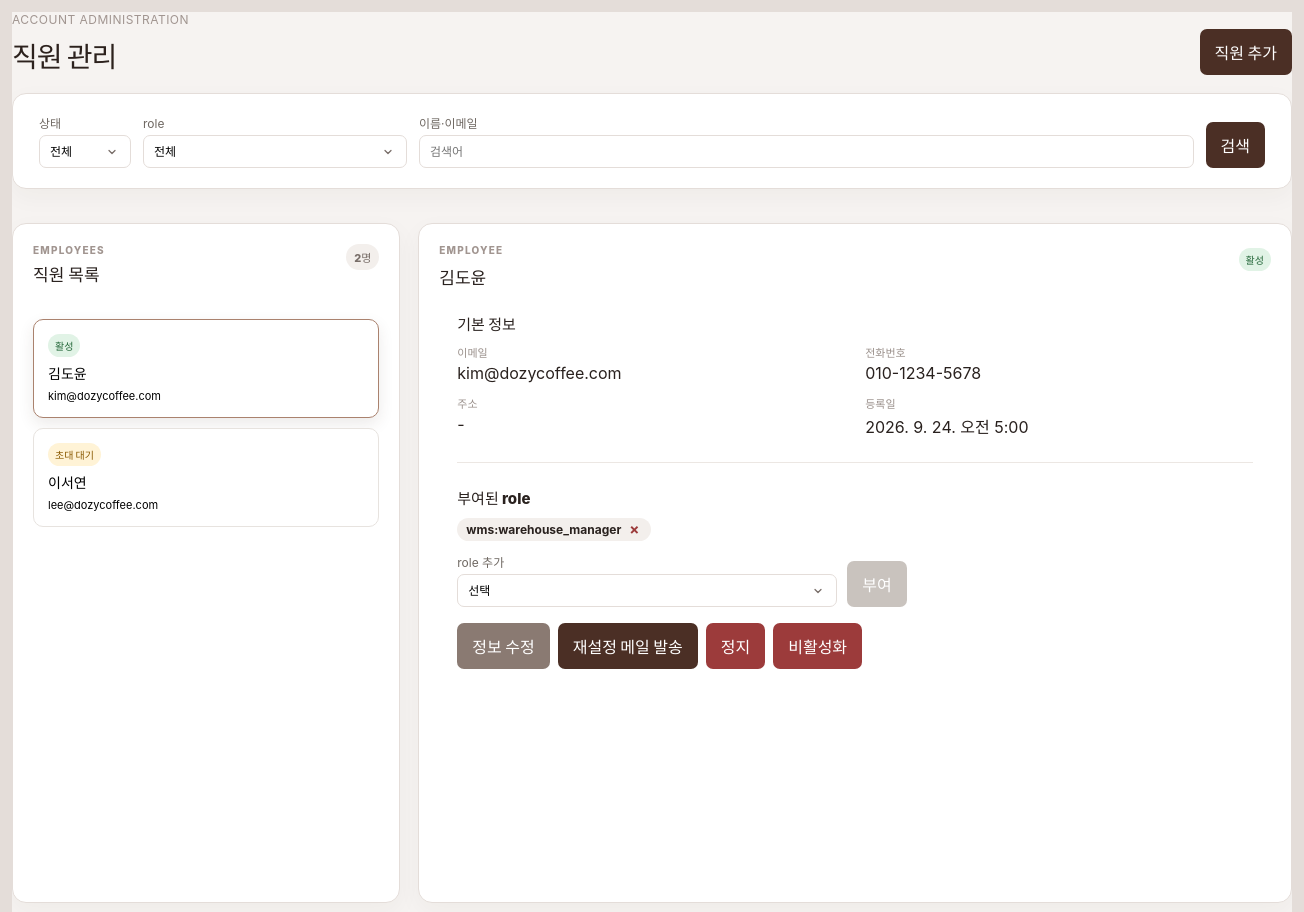
Test: EmployeesPage › 직원을 선택하면 그 직원의 상세를 보여준다
Click the button "초대 대기 이서연 lee@dozycoffee.com": (74, 454) [33,428,379,527]
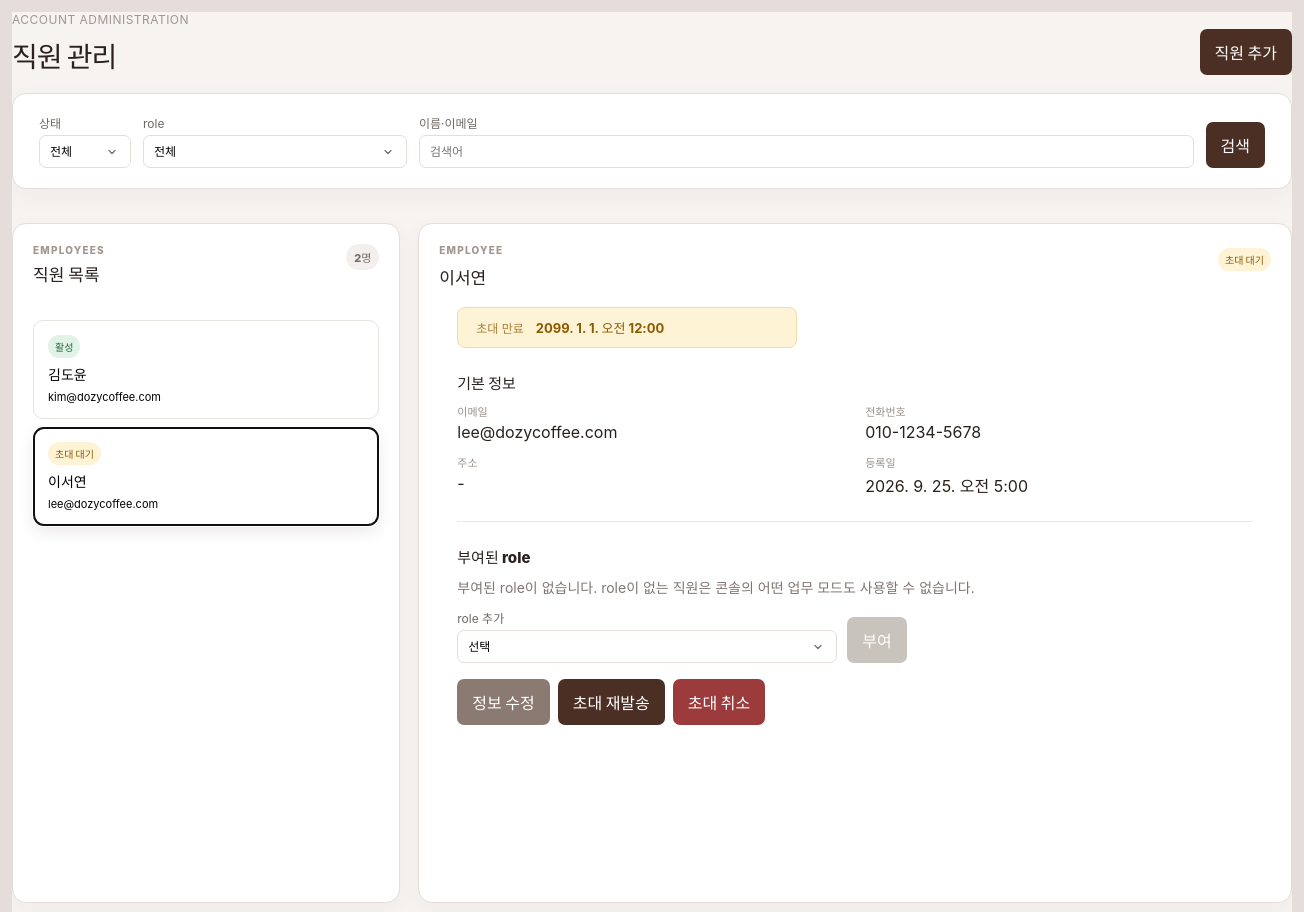
Expected: the heading "이서연" is shown, [439,268,486,288]
Expected: the text "부여된 role이 없습니다. role이 없는 직원은 콘솔의 어떤 업무 모드도 사용할 수 없습니다." is shown, [457,579,975,596]
